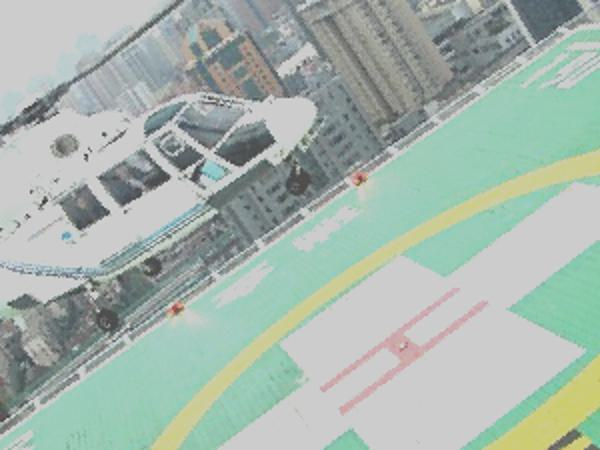Apron: (134, 142, 600, 450)
